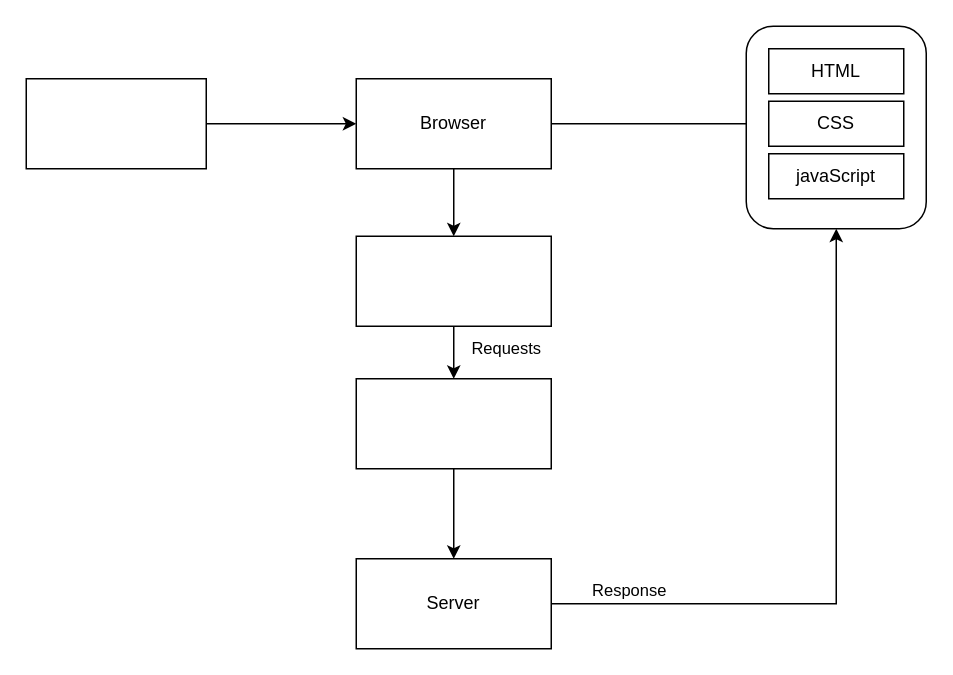
This 953x675 diagram has some shape labels left out. Each missing label, with the centre of its shape:
"DNS Server (Translates domain to IP)" goes at (453,423).
"http://www.google.com" goes at (453,280).
"User" goes at (115,123).
